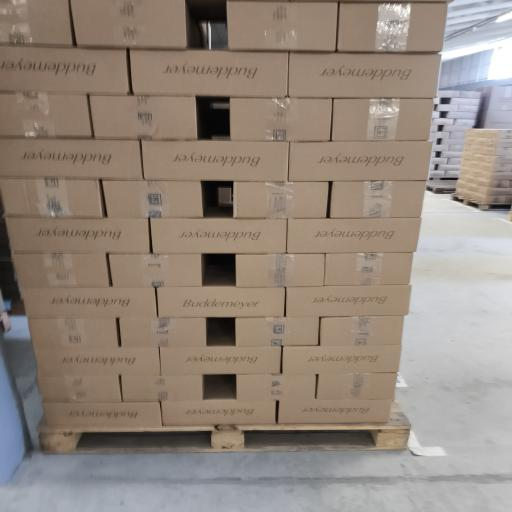pallet: (40, 403, 410, 453), (451, 194, 511, 210), (427, 180, 456, 193), (507, 211, 511, 221)
